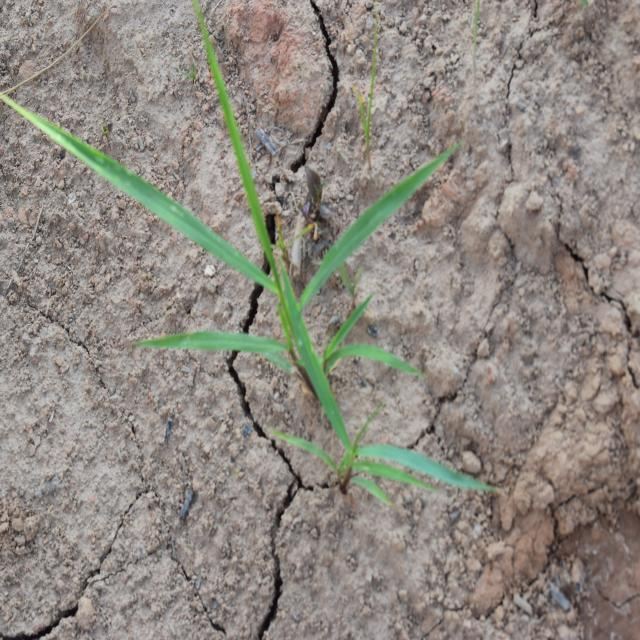green_foxtail: (67, 110, 390, 400), (284, 386, 484, 504)
